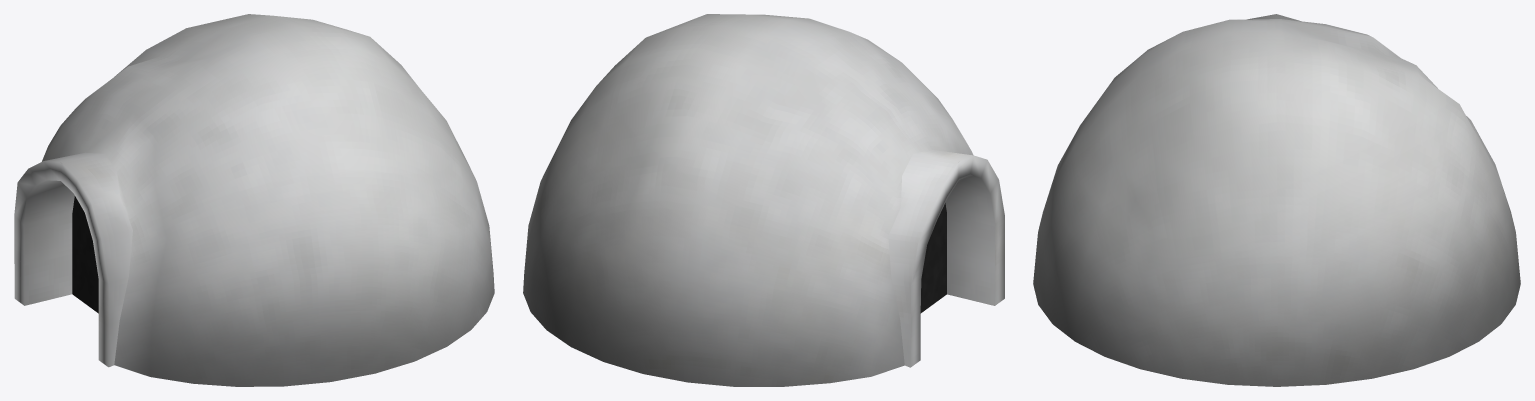
The model's file is igloo.fbx.
3 views of the same model, side by side, from view 1: azimuth 30°, elevation 25°; view 2: azimuth 150°, elevation 25°; view 3: azimuth 270°, elevation 25° (orthographic).
Visible parts, largest first — view 1: igloo; view 2: igloo; view 3: igloo.
Boxes of the visible parts, <box> form: igloo: <box>14,14,494,386</box>; igloo: <box>523,14,1004,386</box>; igloo: <box>1033,14,1520,386</box>.
Bounding box in the file's own units: 575 × 591 × 337.
